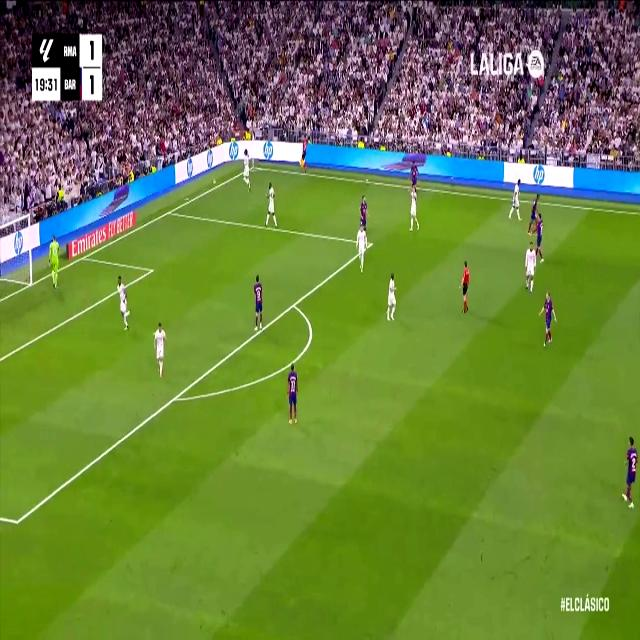bigarea_bottom_inner: (11, 506, 23, 536)
bigarea_top_inner: (368, 237, 373, 249)
bigarea_top_outter: (166, 204, 174, 218)
bottom_arc_area_intersection: (169, 384, 181, 410)
corner: (249, 162, 257, 173)
smallarea_top_inner: (148, 263, 154, 277)
top_arc_area_intersection: (289, 295, 298, 313)
